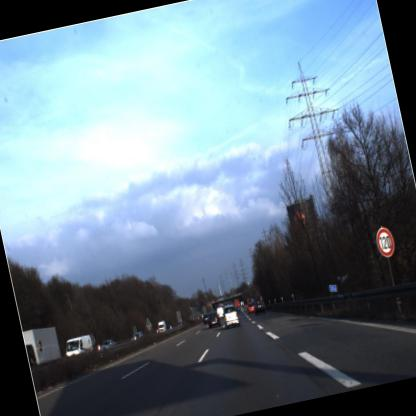prohibitory: (372, 226, 398, 262)
